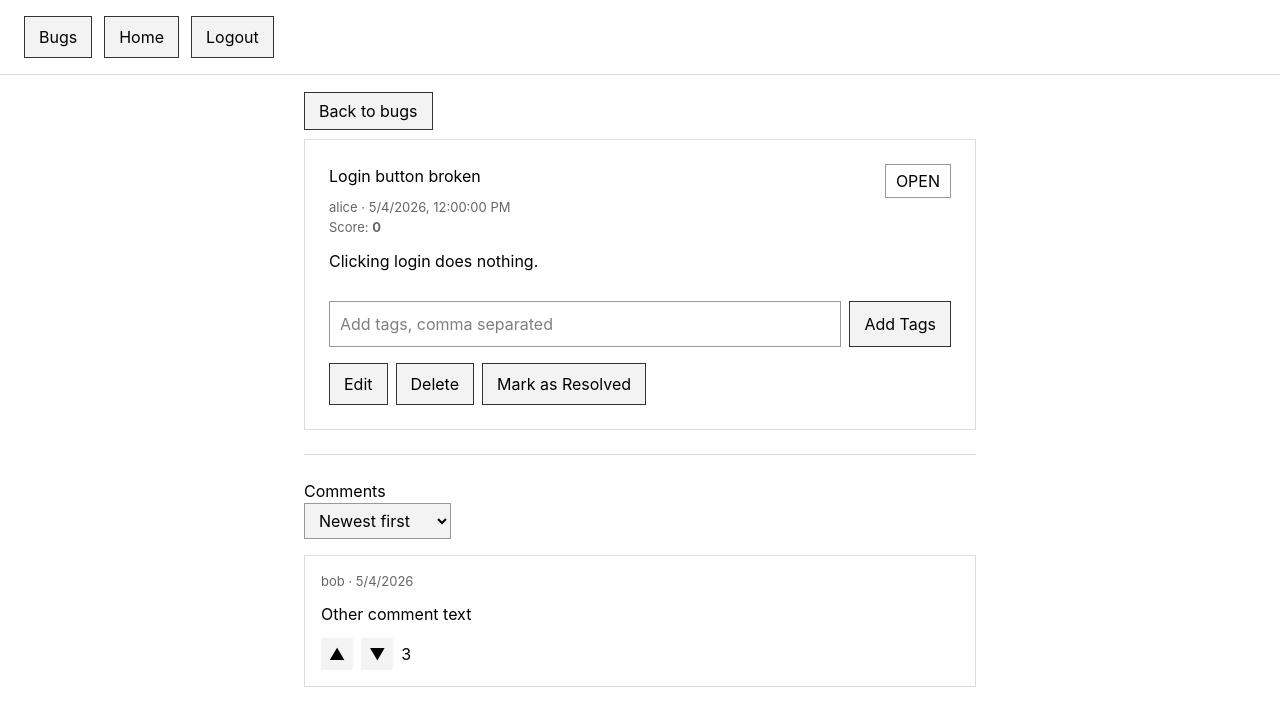
Test: comments › upvote → score +1; upvote again → score back (toggle)
The width and height of the screenshot is (1280, 713).
Click the button named "Upvote".
click(337, 654)  # box [321,638,353,670]
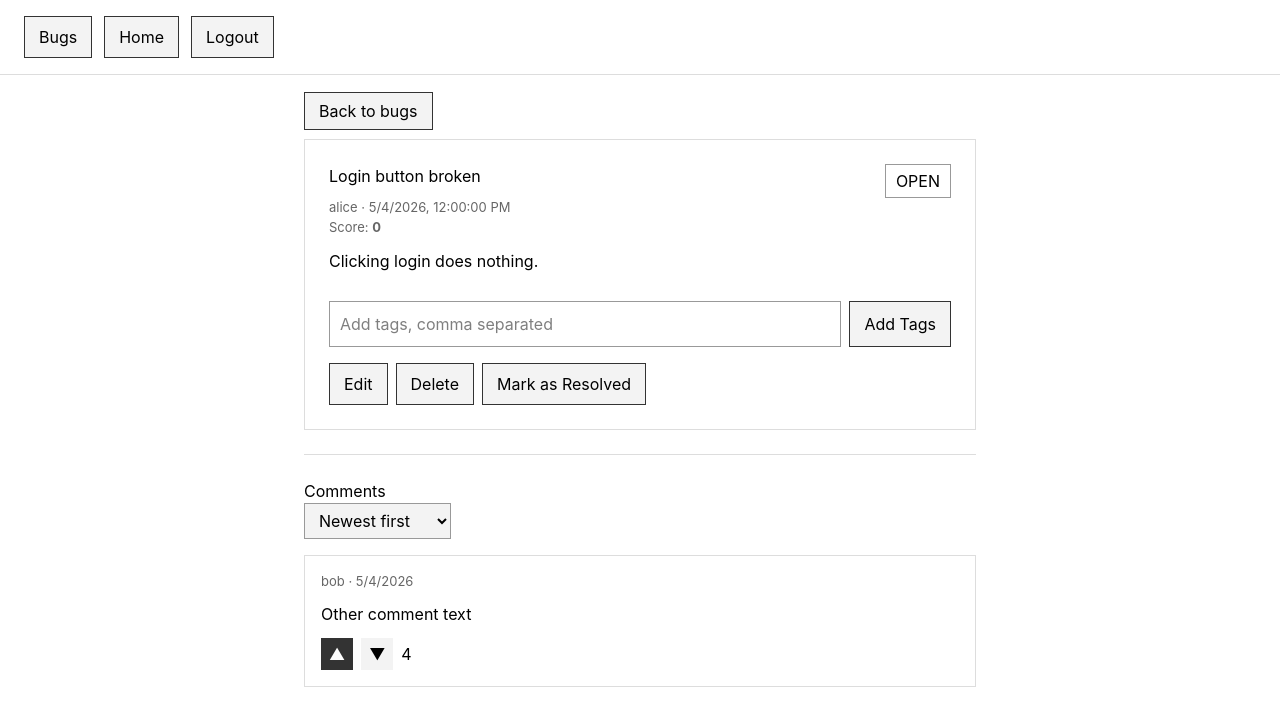
Now the text with test id "comment-score" reads "4", box [401,644,411,664]
Click the button named "Upvote".
click(337, 654)  # box [321,638,353,670]
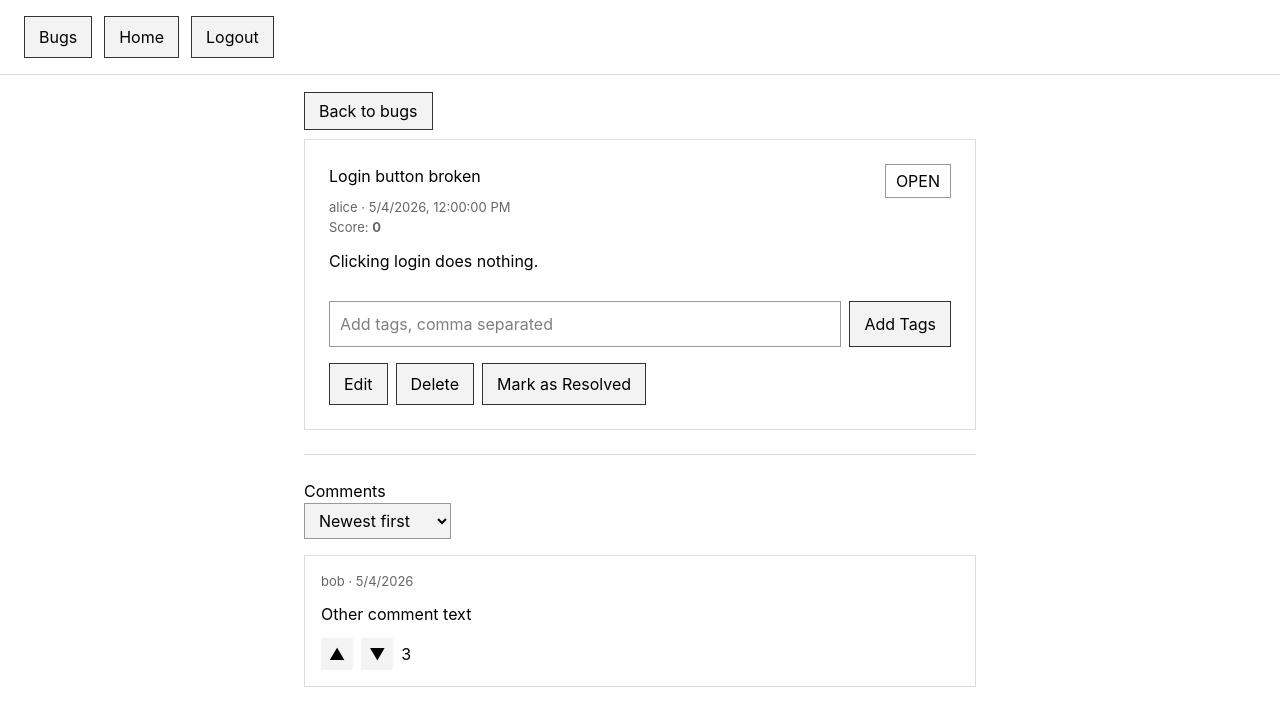
Now the text with test id "comment-score" reads "3", box [401,644,411,664]
